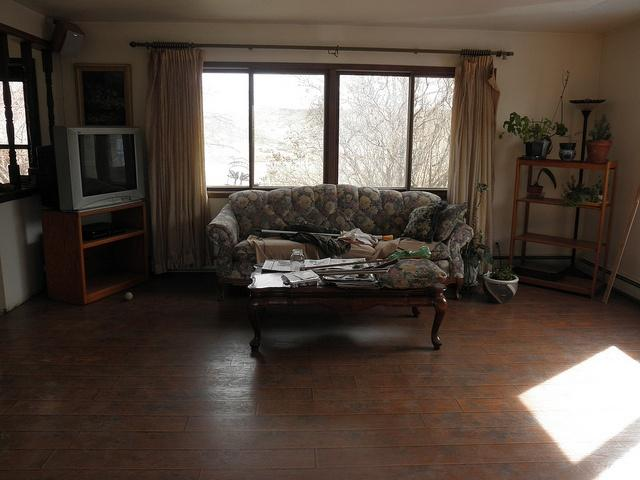Rak: (506, 152, 619, 298)
